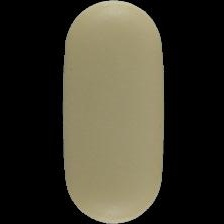0430-0979: (0, 0, 224, 224)
